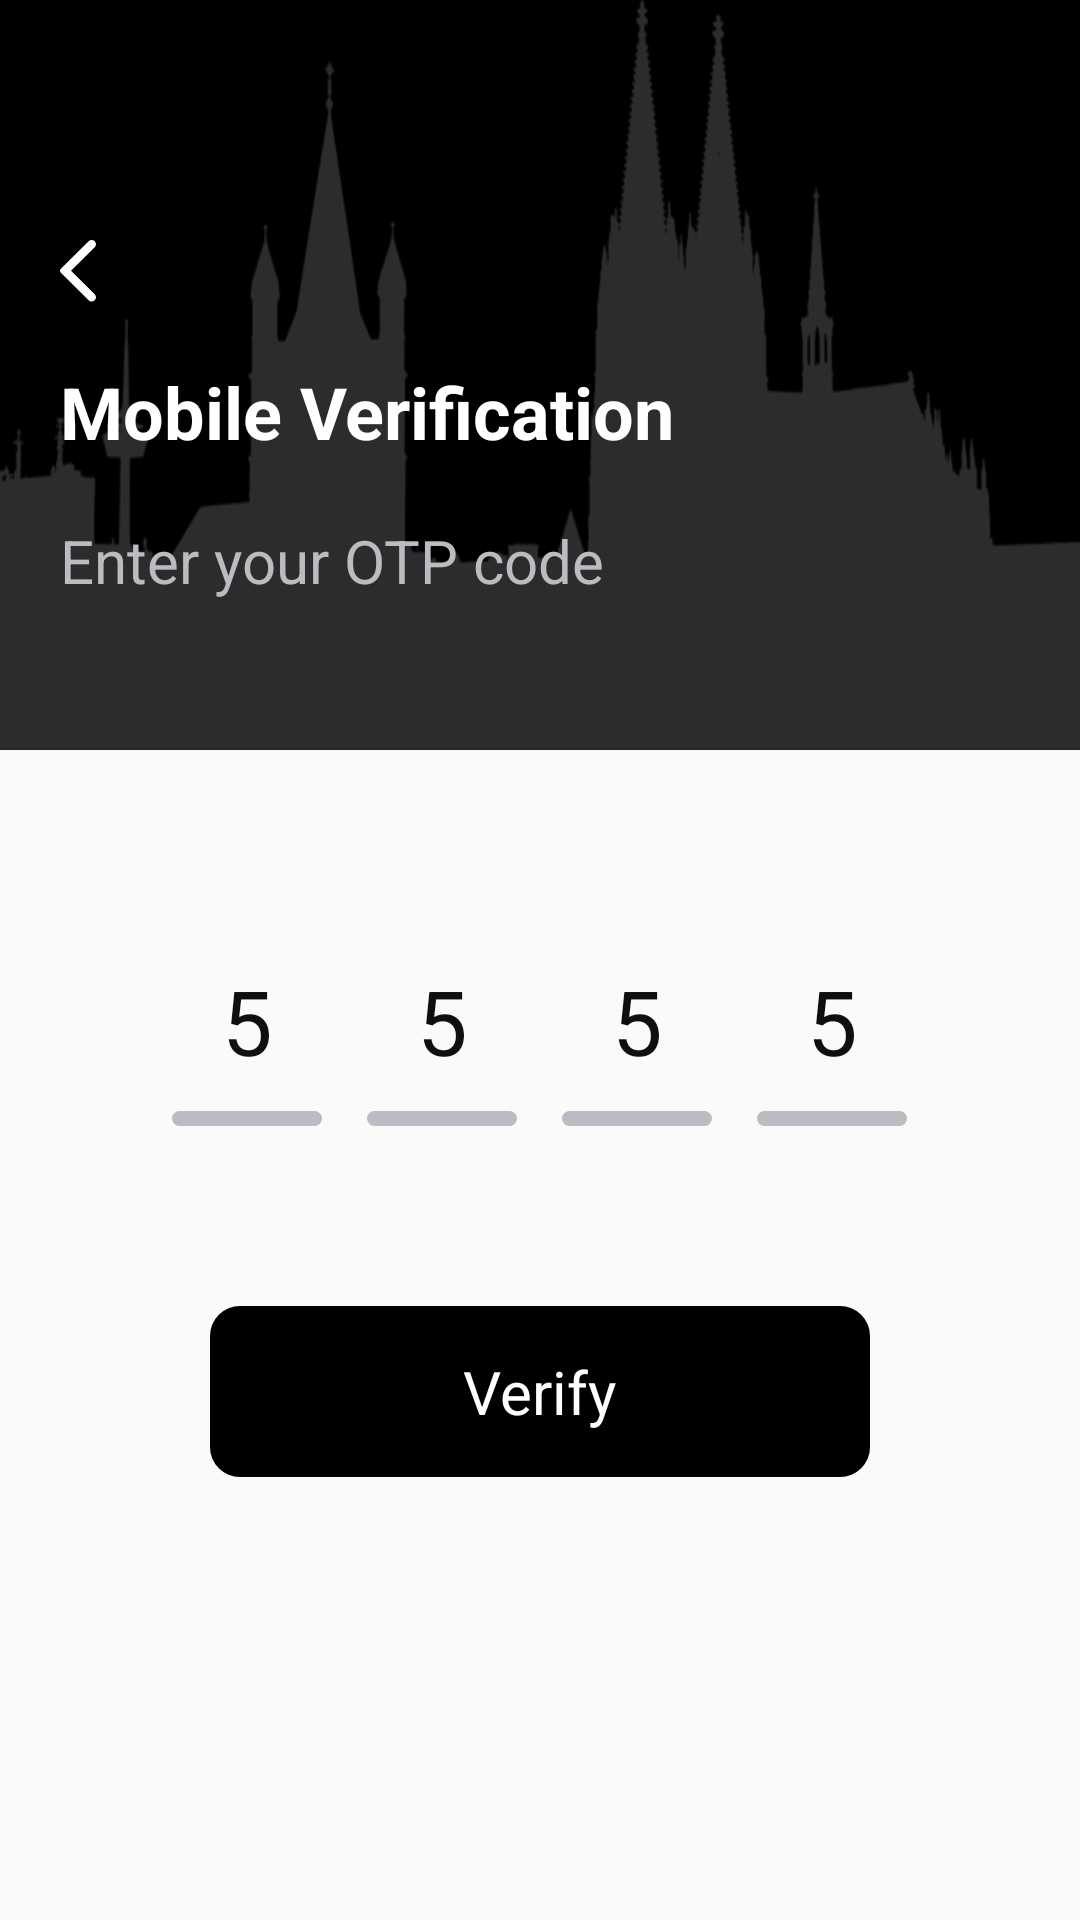

Where to tap for icons on this 1080x1920 app screen, as (x=x, y=y):
left arrow: (x=78, y=271)
